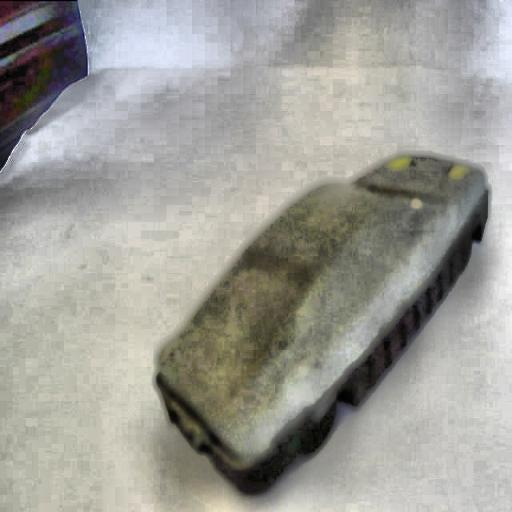normal_car: (152, 154, 488, 502)
